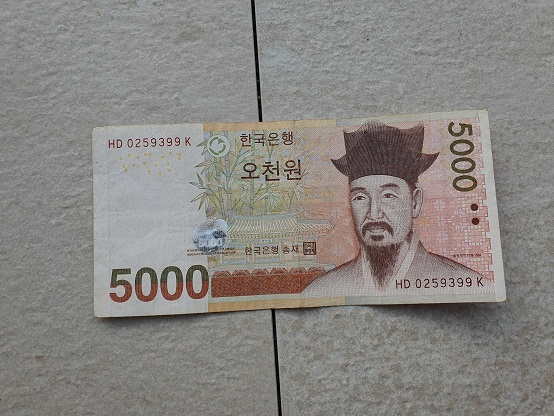5000won: (91, 108, 508, 317)
